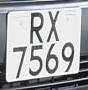5: (28, 44, 44, 79)
6: (44, 43, 61, 76)
7: (11, 44, 28, 80)
9: (59, 41, 77, 74)
R: (26, 11, 46, 45)
X: (45, 9, 62, 45)
